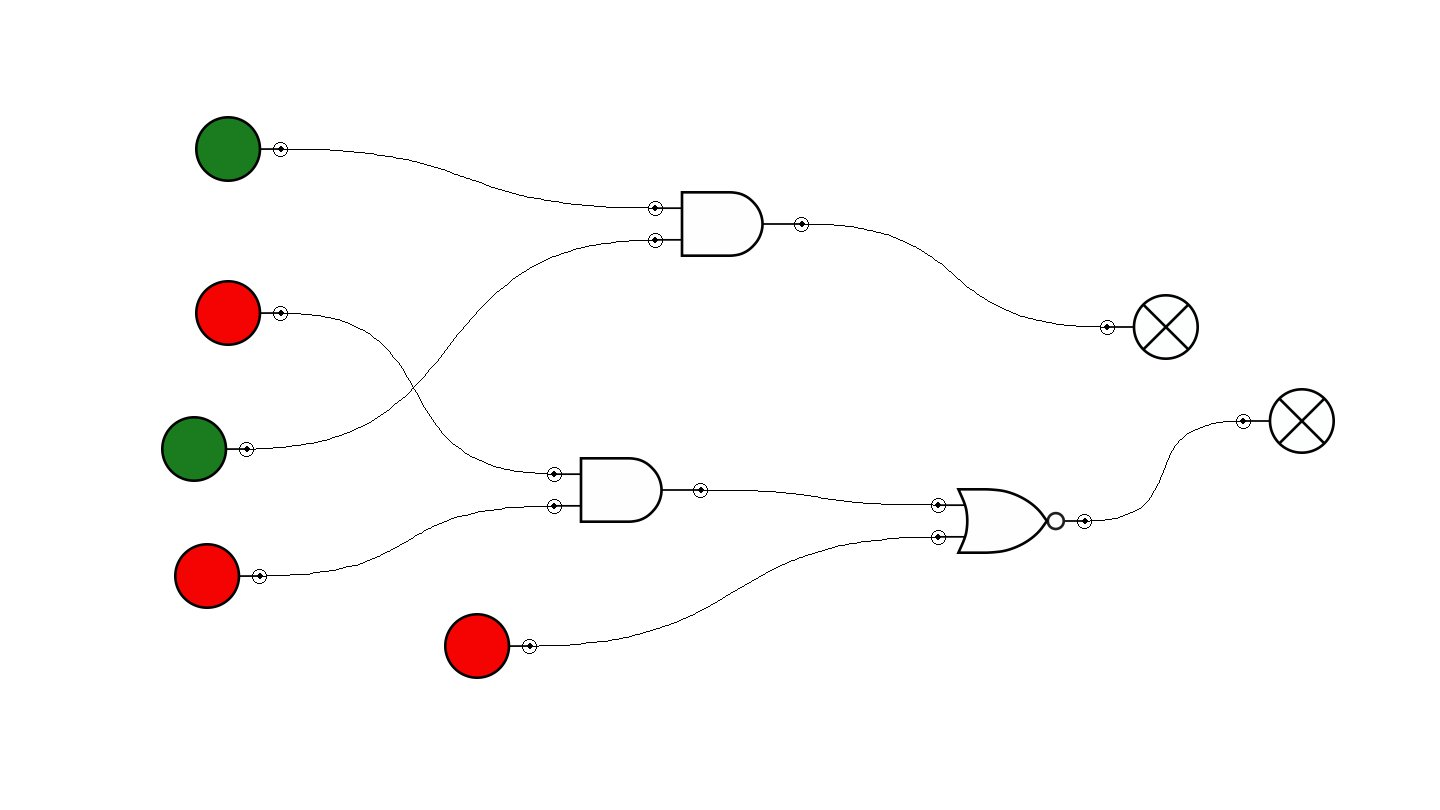and: (547, 457, 708, 523), (648, 191, 809, 257)
bulb: (1100, 294, 1199, 360), (1236, 388, 1335, 454)
nor: (931, 488, 1092, 554)
switch_False: (444, 613, 537, 679), (174, 543, 267, 609), (195, 280, 288, 346)
switch_True: (161, 416, 254, 482), (195, 116, 288, 182)
